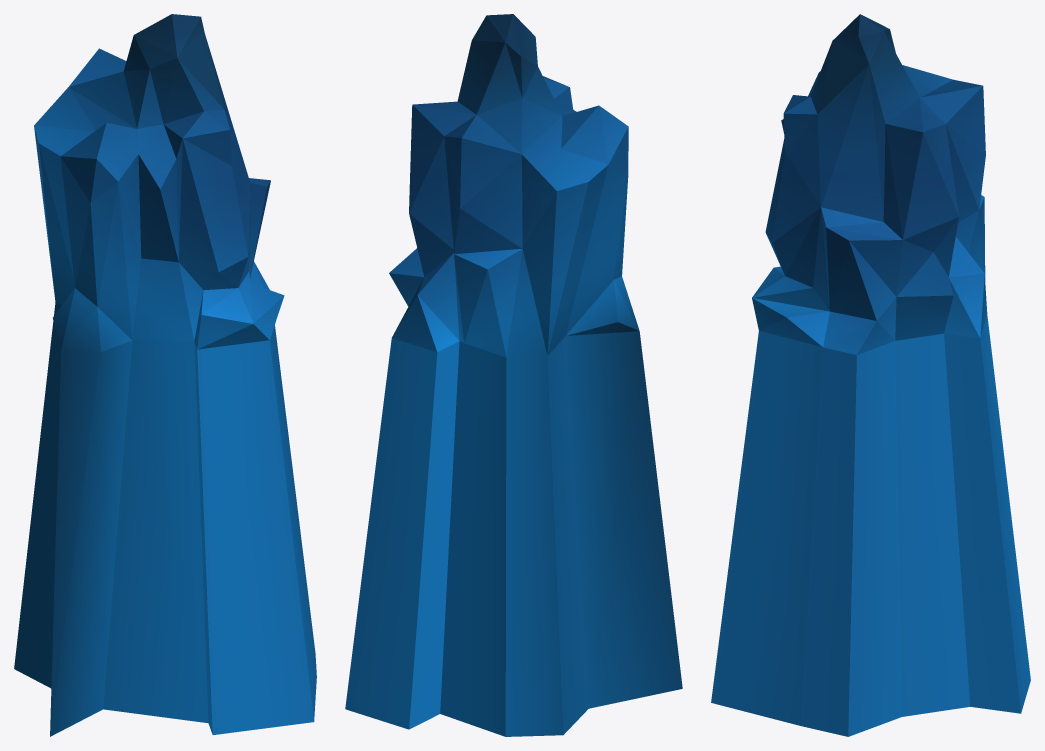
File: Terrain_Mountain_3.fbx
3 renders of one model, left to right at view 1: azimuth 30°, elevation 25°; view 2: azimuth 150°, elevation 25°; view 3: azimuth 270°, elevation 25°, orthographic.
Parts seen in each view (by area): view 1: terrain_mountain_005; view 2: terrain_mountain_005; view 3: terrain_mountain_005.
Part boxes in pixels (<box>): terrain_mountain_005: <box>14,14,316,736</box>; terrain_mountain_005: <box>345,14,682,736</box>; terrain_mountain_005: <box>711,14,1030,736</box>.
Bounding box in the file's own units: 269 × 604 × 267.
Materials: 1 (1 with a texture image).
